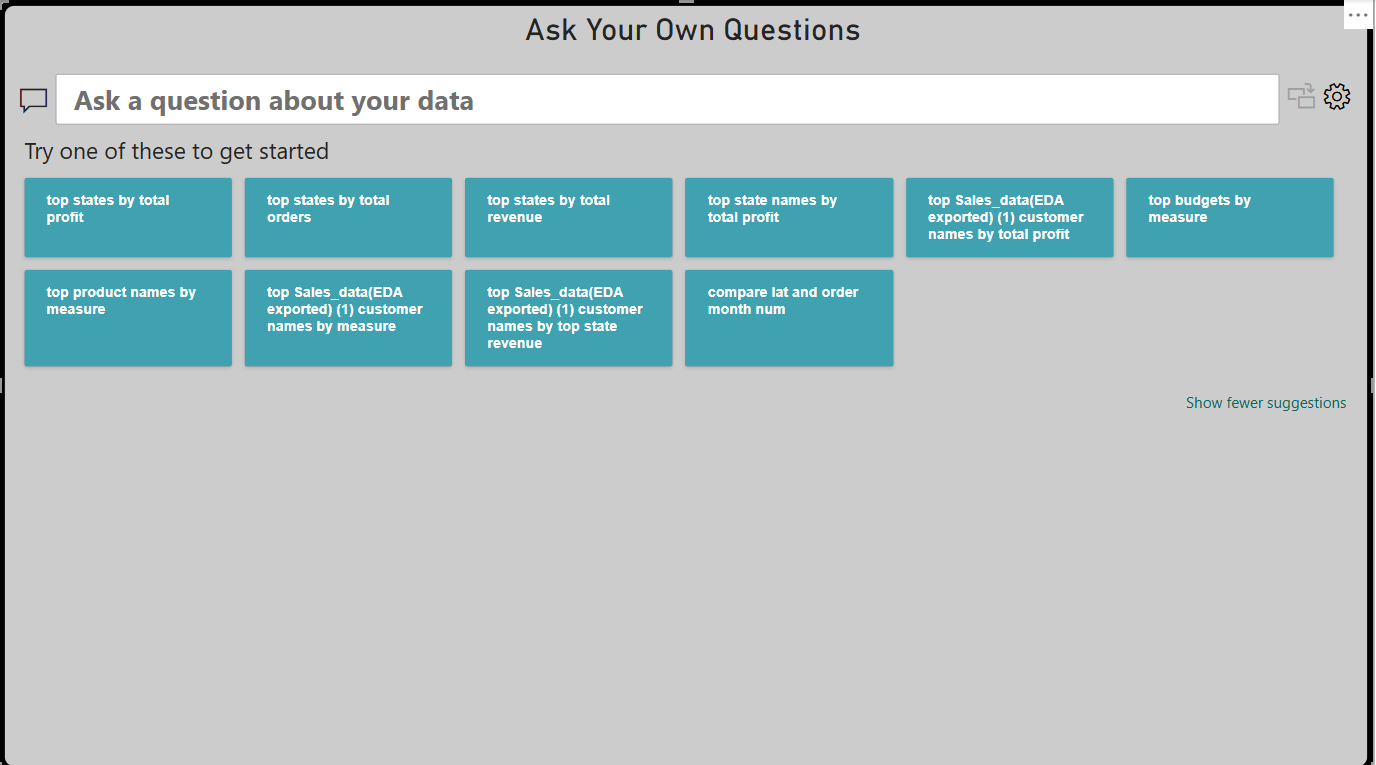

Layout of this report page (visuals, bound fields, positions):
{"tool":"powerbi","page":{"name":"Q & A","canvas":[1280,720],"ordinal":4},"visuals":[{"type":"qnaVisual","title":"Ask Your Own Questions","box":[0,0,1280,720],"z":0}]}

Visuals, with their boxes in screenshot pixels (x1, y1, x2, y2), scaled from the page's 1280x720 canvas onto the 1376x765 screenshot:
"Ask Your Own Questions" qnaVisual: <bbox>0, 0, 1375, 764</bbox>
